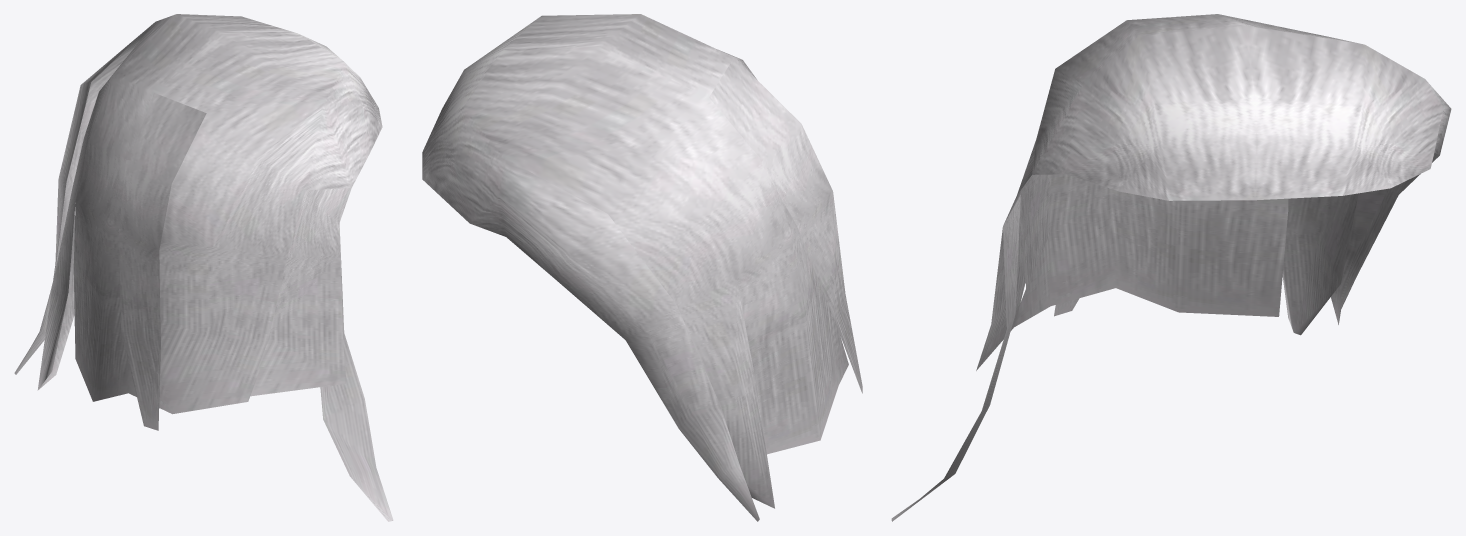
Rendered from Martial arts male hair 19.glb.
The picture shows the model from 3 angles, left to right: view 1: azimuth 30°, elevation 25°; view 2: azimuth 150°, elevation 25°; view 3: azimuth 270°, elevation 25°; orthographic projection. The views are drawn at different scales.
Visible parts, largest first — view 1: 武侠男头发19_0; view 2: 武侠男头发19_0; view 3: 武侠男头发19_0.
Boxes of the visible parts, bbox=[...] form: 武侠男头发19_0: bbox=[14, 14, 393, 521]; 武侠男头发19_0: bbox=[422, 14, 862, 521]; 武侠男头发19_0: bbox=[891, 14, 1451, 521].
Bounding box in the file's own units: 0.1804 × 0.2239 × 0.2368.
1 material, 1 textured.
